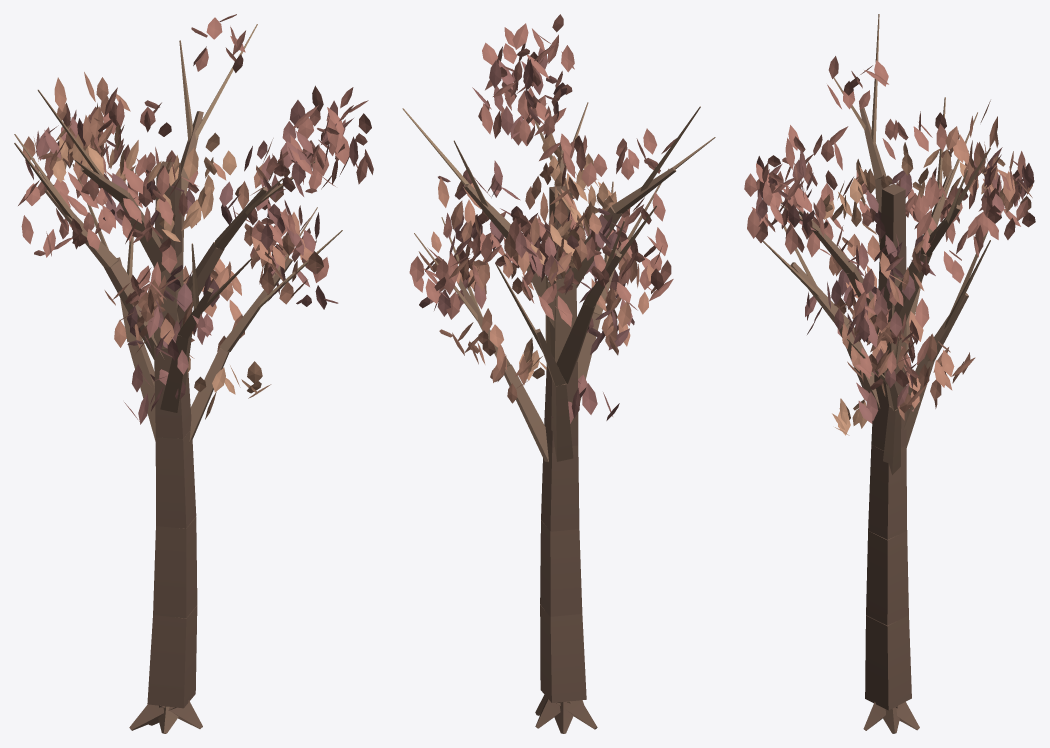
Rendered from tree_3d_02_red.glb.
3 views of the same model, side by side, from view 1: azimuth 30°, elevation 25°; view 2: azimuth 150°, elevation 25°; view 3: azimuth 270°, elevation 25° (orthographic). The views are drawn at different scales.
Parts seen in each view (by area): view 1: tree_3d_02_red_foliage, tree_3d_02_red_wood; view 2: tree_3d_02_red_foliage, tree_3d_02_red_wood; view 3: tree_3d_02_red_foliage, tree_3d_02_red_wood.
Part boxes in pixels (x1,y1,x2,y2): tree_3d_02_red_foliage: (18, 14, 373, 424); tree_3d_02_red_wood: (14, 24, 342, 733); tree_3d_02_red_foliage: (409, 14, 676, 423); tree_3d_02_red_wood: (402, 102, 715, 733); tree_3d_02_red_foliage: (744, 56, 1035, 435); tree_3d_02_red_wood: (762, 14, 990, 733).
Bounding box in the file's own units: 5.4 × 12.5 × 4.8.
